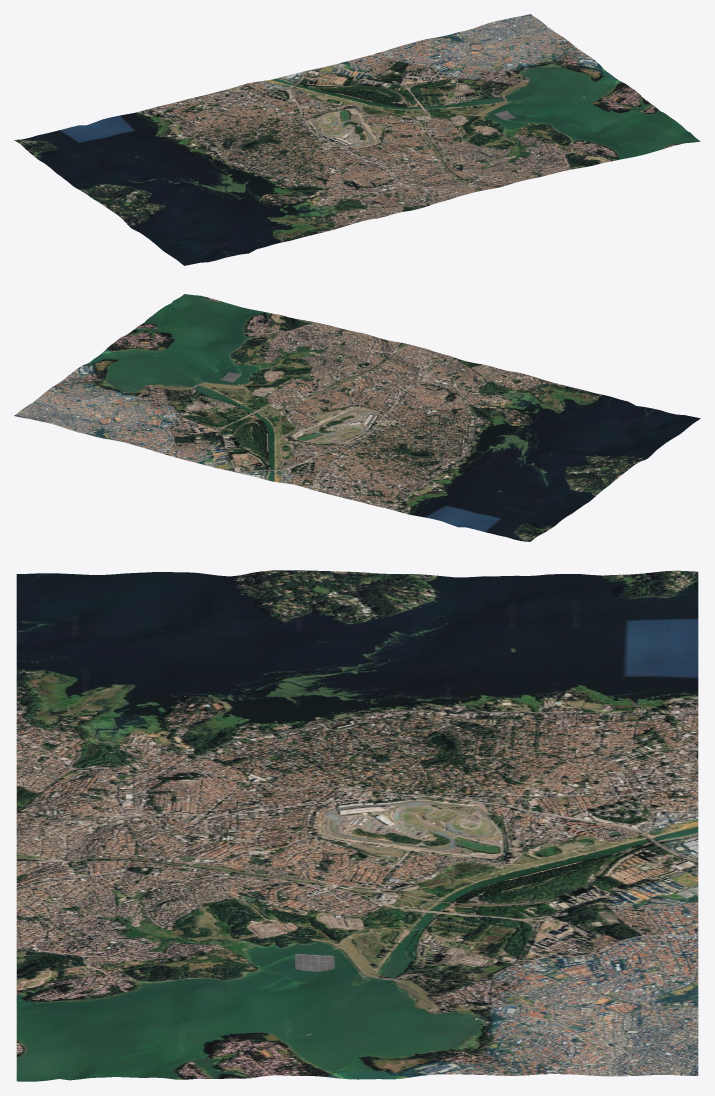
File: OutterMap.dae
3 views of the same model, one above another, from view 1: azimuth 30°, elevation 25°; view 2: azimuth 150°, elevation 25°; view 3: azimuth 270°, elevation 25° (orthographic). The views are drawn at different scales.
Visible parts, largest first — view 1: EXPORT_GOOGLE_SAT_WM; view 2: EXPORT_GOOGLE_SAT_WM; view 3: EXPORT_GOOGLE_SAT_WM.
Part boxes in pixels (x1=…): EXPORT_GOOGLE_SAT_WM: x1=14, y1=14, x2=700, y2=265; EXPORT_GOOGLE_SAT_WM: x1=14, y1=294, x2=700, y2=541; EXPORT_GOOGLE_SAT_WM: x1=16, y1=570, x2=698, y2=1081.
Bounding box in the file's own units: 8561 × 4892 × 224.
1 material, 1 textured.
